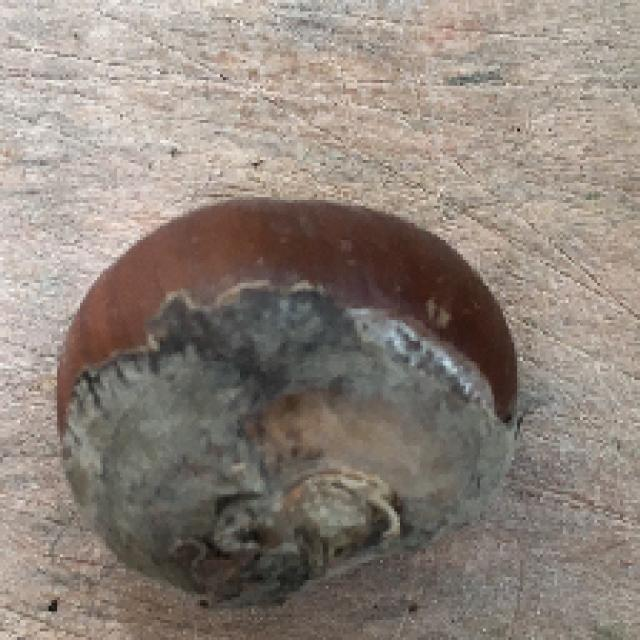damagedHazelnut: (35, 173, 528, 620)
